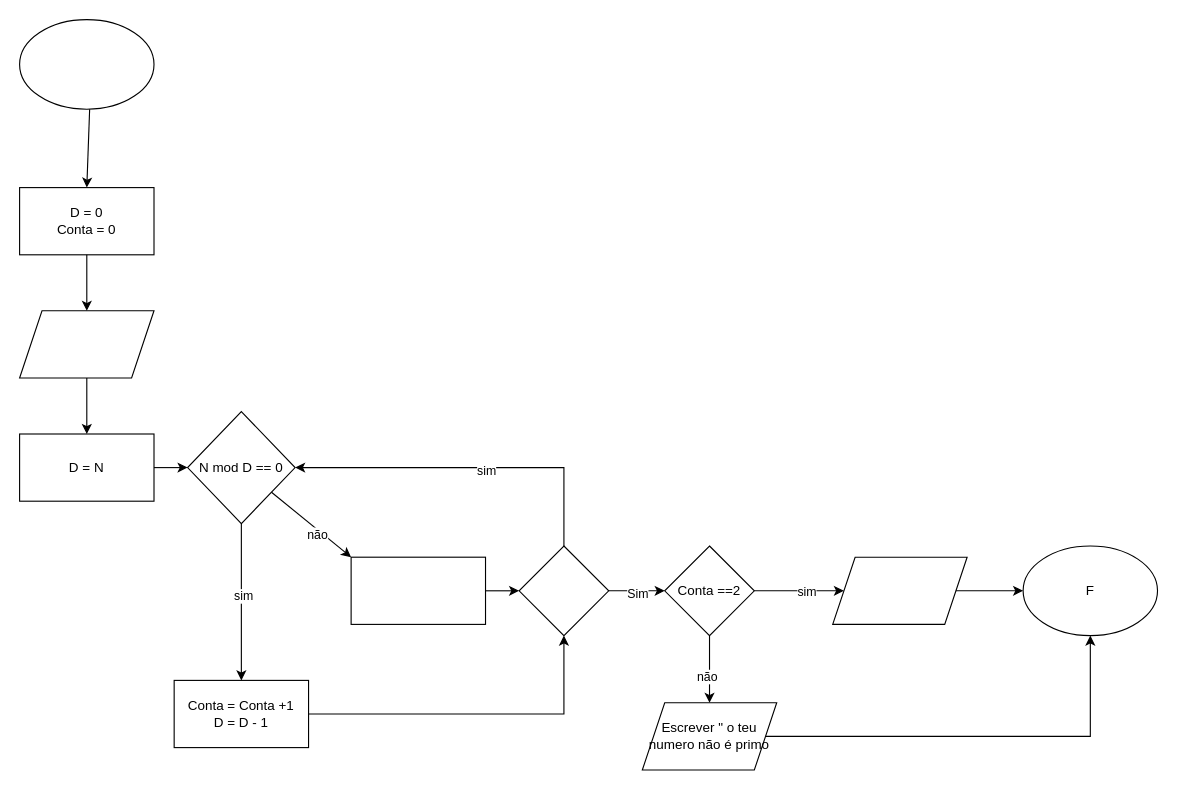
This 1177x790 diagram has some shape labels left out. The centre of each missing label's shape, as x and y in pixels:
D = D - 1: [418,590]
D == 0: [563,590]
Escrever " o teu numero é primo: [899,590]
Pedir N: [86,344]
